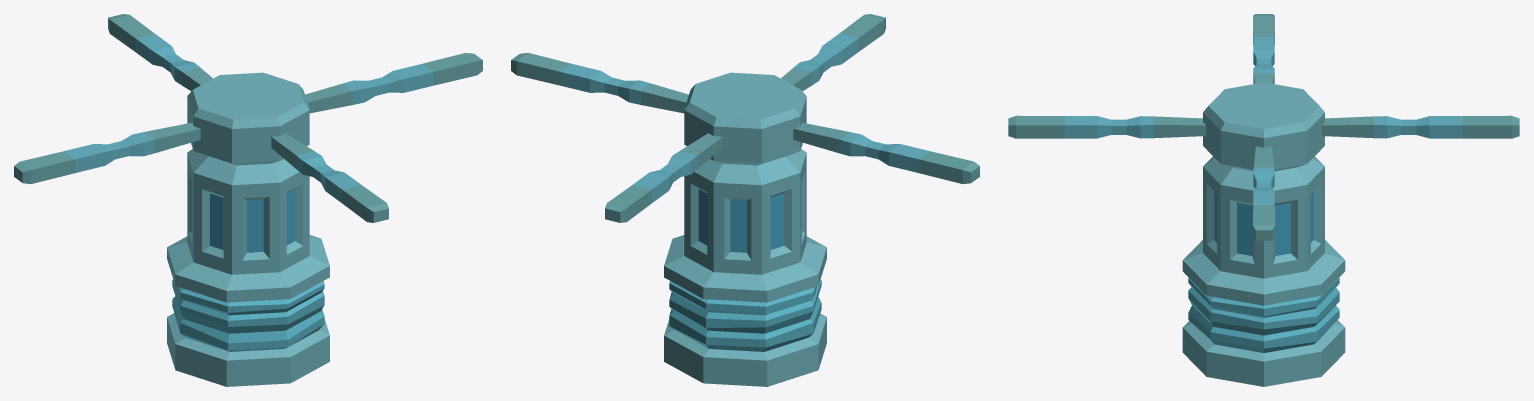
Rendered from SM_Prop_Crank_01.glb.
3 views of the same model, side by side, from view 1: azimuth 30°, elevation 25°; view 2: azimuth 150°, elevation 25°; view 3: azimuth 270°, elevation 25° (orthographic). The views are drawn at different scales.
Parts seen in each view (by area): view 1: SM_Prop_Crank_01; view 2: SM_Prop_Crank_01; view 3: SM_Prop_Crank_01.
Boxes of the visible parts, <box> form: SM_Prop_Crank_01: <box>14,14,482,386</box>; SM_Prop_Crank_01: <box>511,14,979,386</box>; SM_Prop_Crank_01: <box>1008,14,1519,386</box>.
Size of the model in its own units: 0.0229 by 0.0122 by 0.0229.
